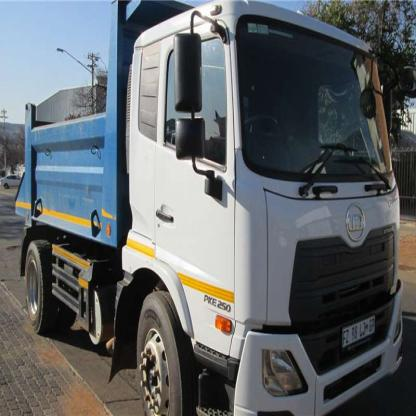dump_truck: (7, 6, 411, 416)
